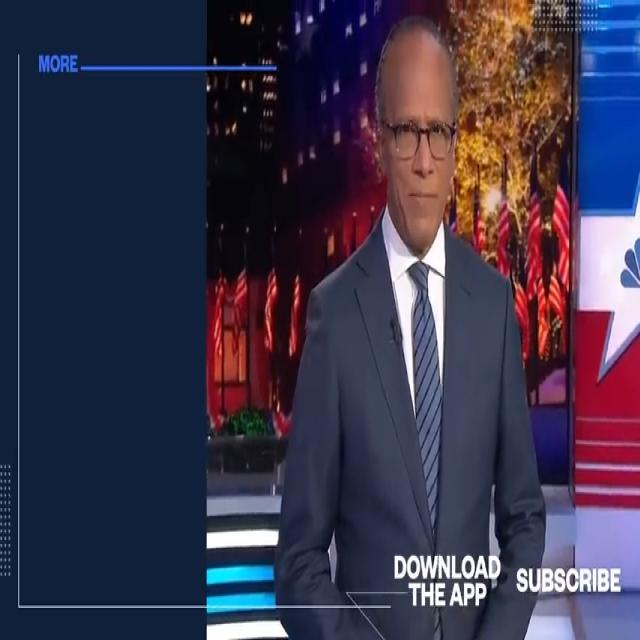non-fight: (268, 7, 550, 640)
